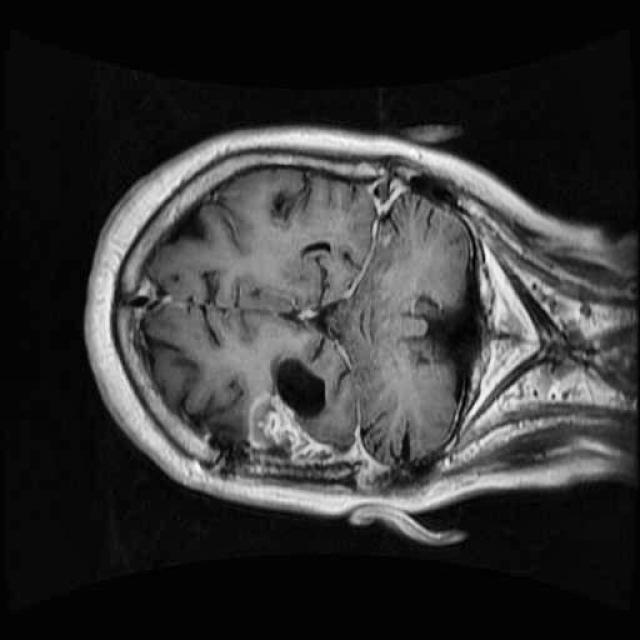Non-Tumor: (231, 382, 354, 489)
